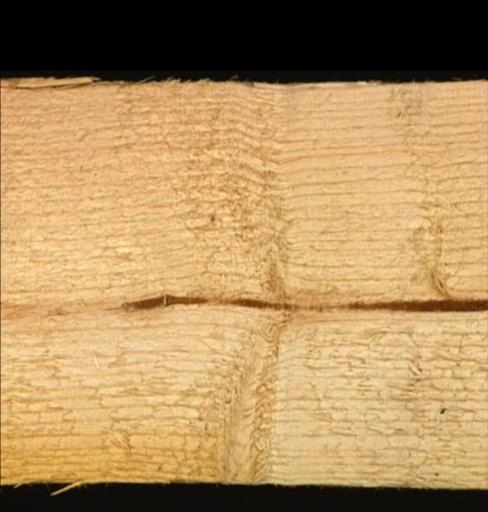split: (67, 294, 484, 323), (0, 81, 101, 96)
